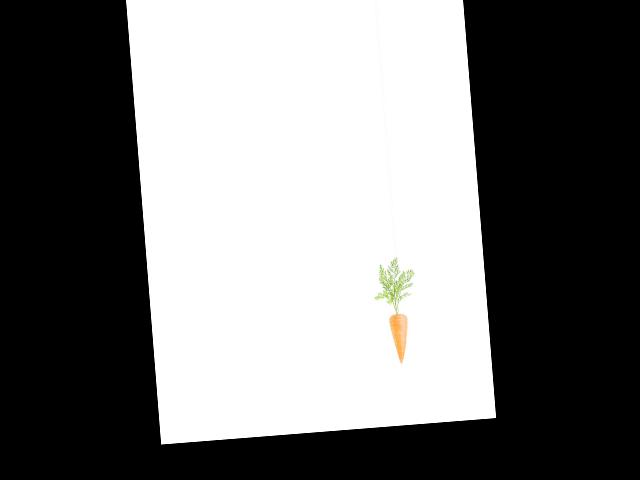carrot: (382, 310, 415, 365)
